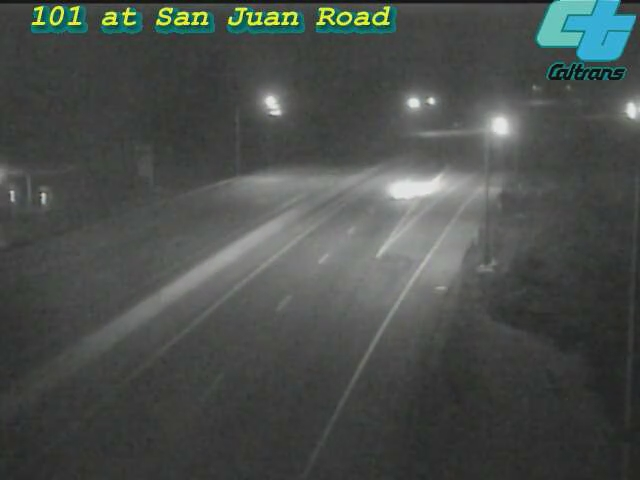vehicle: (366, 147, 446, 227), (473, 101, 523, 151), (605, 85, 640, 135)
